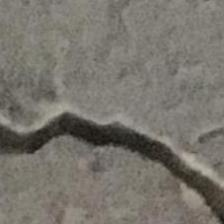Crack: (0, 40, 224, 224)
